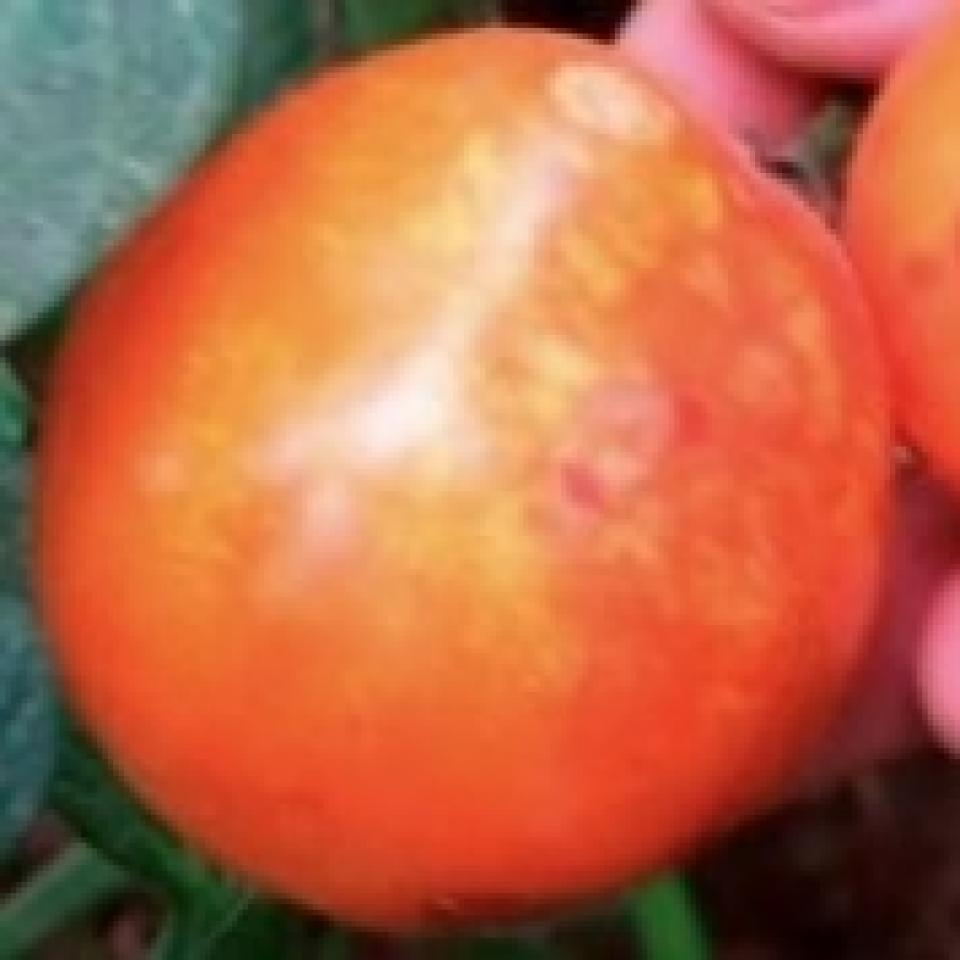Spotted wilt Virus: (31, 22, 896, 930)
